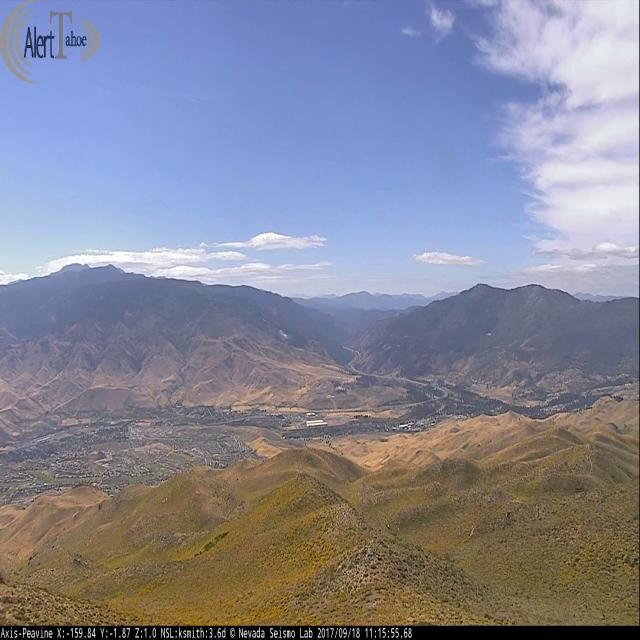smoke: (278, 329, 293, 339)
